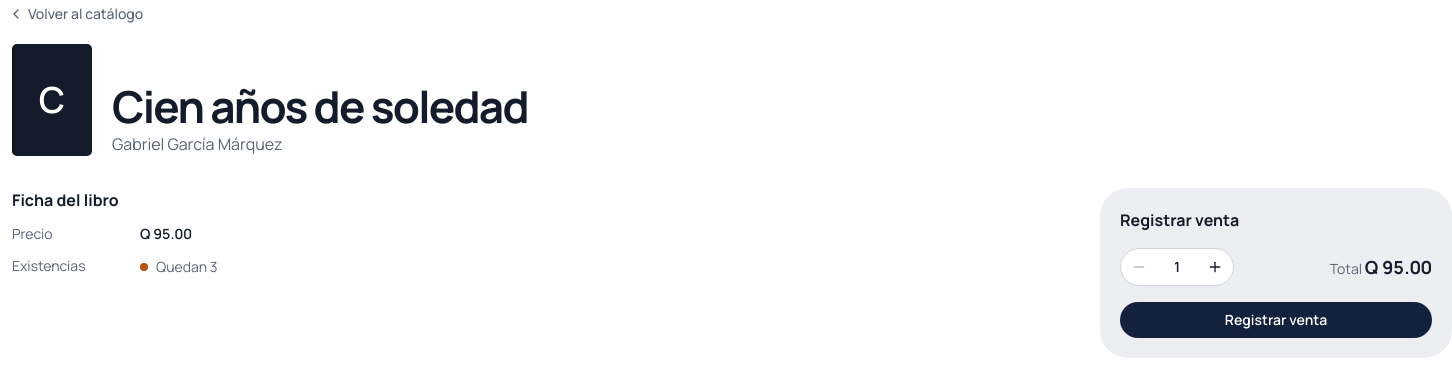
Scenario: LibroDetallePage › actualiza el total al cambiar la cantidad y no pasa de las existencias
This screenshot has width=1452, height=375.
Check: the heading "Cien años de soledad" is shown, box [112,81,528,132]
What coordinates should you click on to do the following:
click the button named "Aumentar cantidad"
I would click on:
 (1215, 267)
Its box is [1197,249,1233,285].
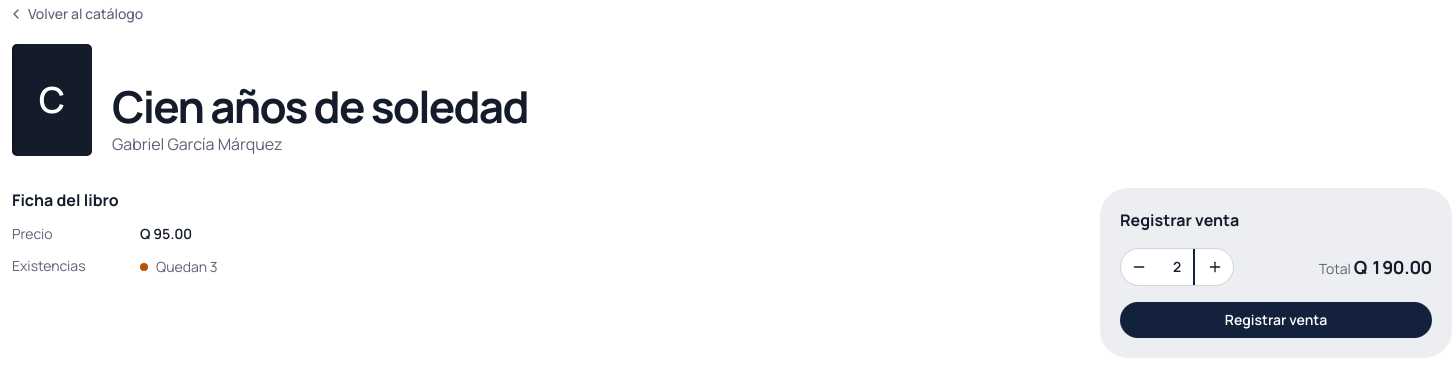
Check: the text "Q 190.00" is shown, box [1354,255,1432,279]
What coordinates should you click on to do the following:
click the button named "Aumentar cantidad"
I would click on:
 (1215, 267)
Its box is [1197,249,1233,285].
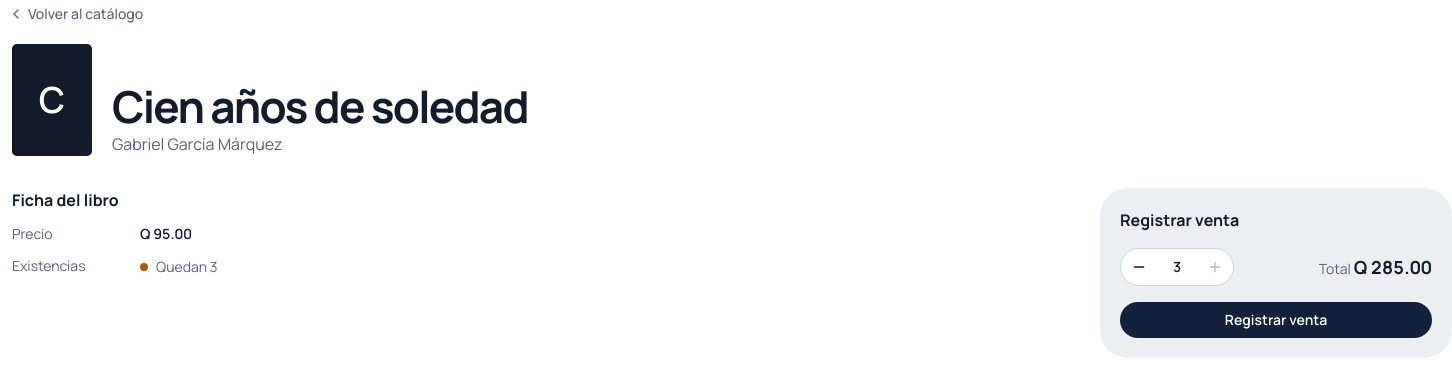
Check: the text "Q 285.00" is shown, box [1354,255,1432,279]
Check: the button named "Aumentar cantidad" is disabled, box [1197,249,1233,285]
What coordinates should you click on to do the following:
click the button named "Disminuir cantidad"
I would click on:
 (1139, 267)
Its box is [1121,249,1157,285].
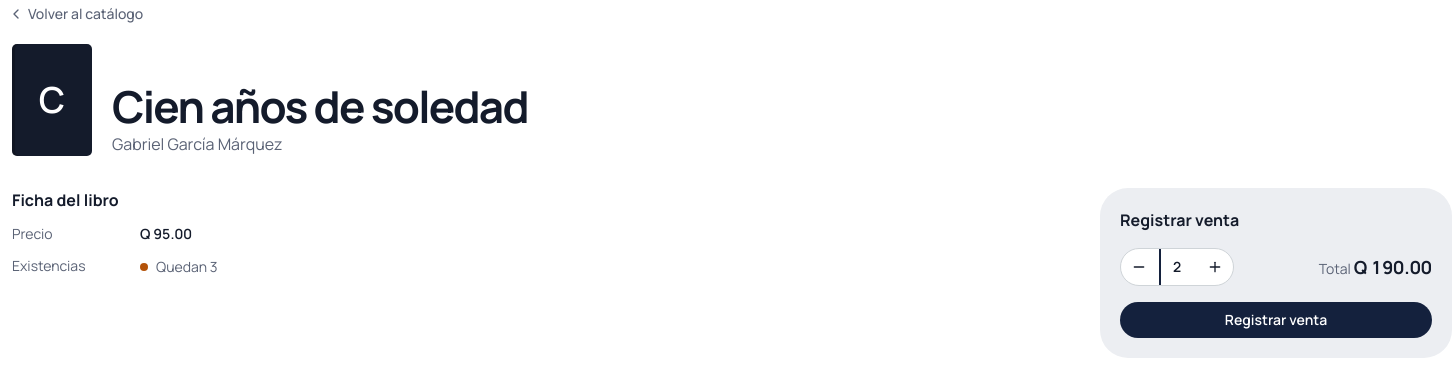
Check: the text "Q 190.00" is shown, box [1354,255,1432,279]
